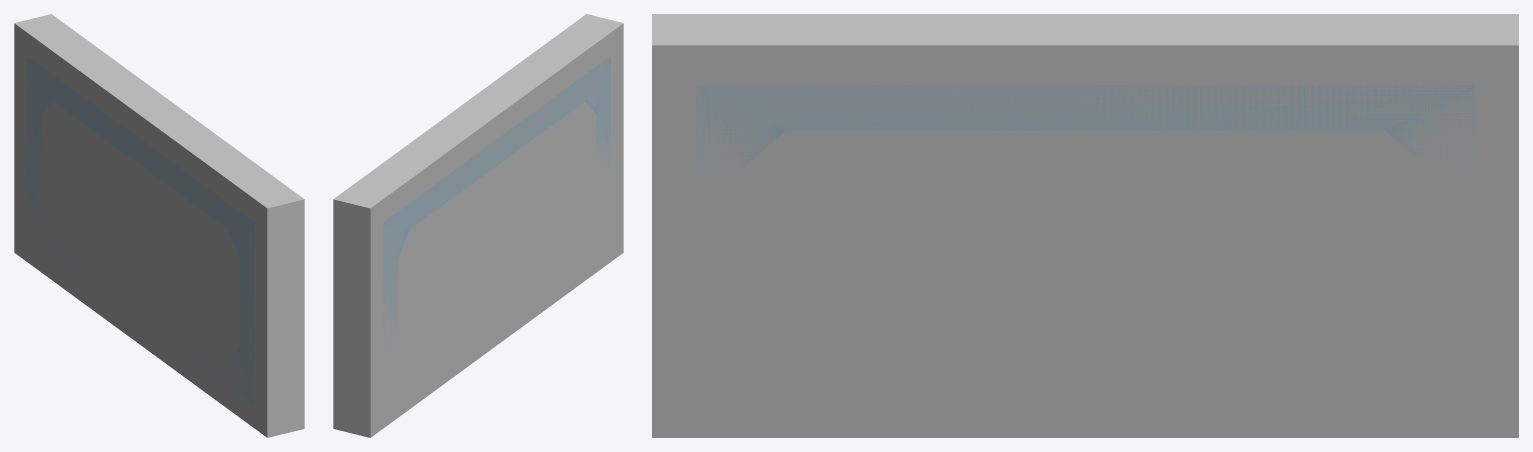
The model's file is SM_Train_Door.fbx.
The picture shows the model from 3 angles, left to right: view 1: azimuth 30°, elevation 25°; view 2: azimuth 150°, elevation 25°; view 3: azimuth 270°, elevation 25°; orthographic projection. The views are drawn at different scales.
Parts seen in each view (by area): view 1: SM_Train_Door_ConvexHulls, SM_Train_Door; view 2: SM_Train_Door_ConvexHulls, SM_Train_Door; view 3: SM_Train_Door_ConvexHulls, SM_Train_Door.
Part boxes in pixels (bbox=[...]): SM_Train_Door_ConvexHulls: bbox=[14, 14, 304, 437]; SM_Train_Door: bbox=[27, 56, 254, 404]; SM_Train_Door_ConvexHulls: bbox=[333, 14, 623, 437]; SM_Train_Door: bbox=[383, 56, 610, 365]; SM_Train_Door_ConvexHulls: bbox=[652, 14, 1518, 437]; SM_Train_Door: bbox=[696, 85, 1474, 198].
Bounding box in the file's own units: 17.02 × 200 × 100.
